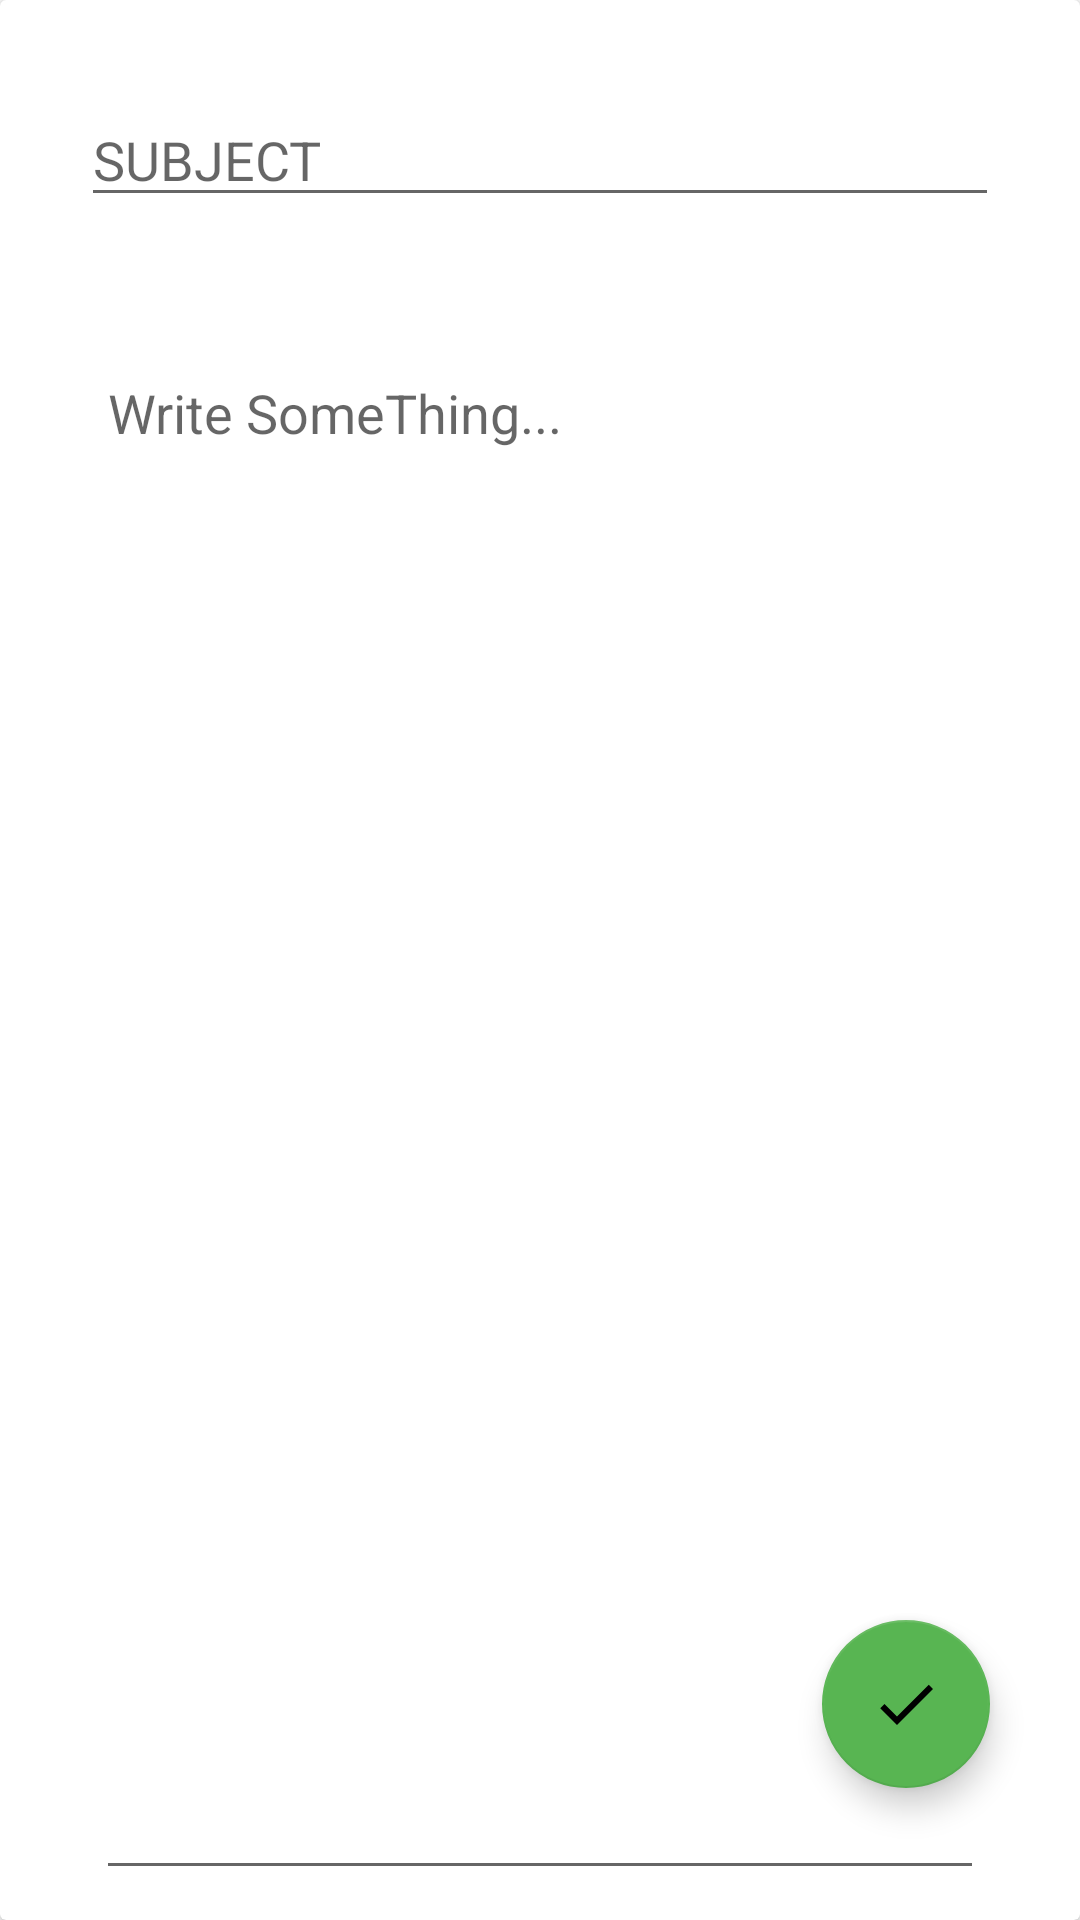

Screen size 1080w x 1920h. Icon name, then its center in pixels as [x,y]:
check: [906,1704]
